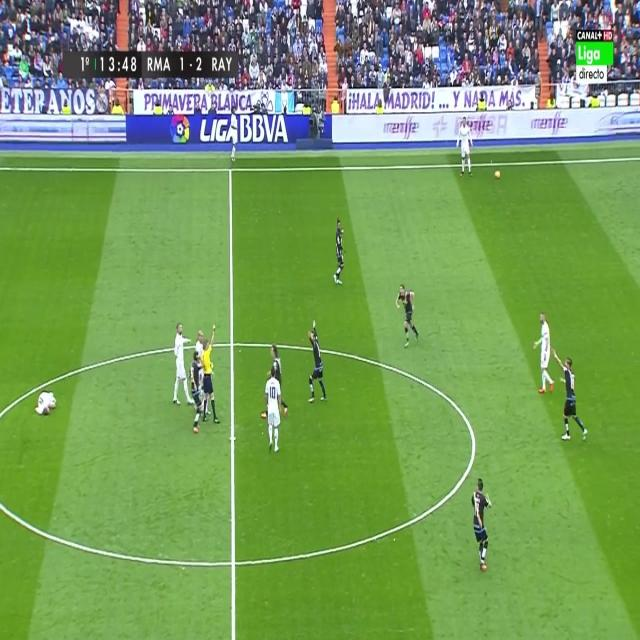Ball: (492, 167, 502, 180)
Player: (555, 350, 589, 445), (469, 476, 494, 576), (531, 308, 554, 395), (392, 279, 420, 350), (306, 320, 329, 404), (171, 322, 192, 412), (266, 363, 282, 456), (188, 348, 204, 434), (454, 117, 475, 177), (331, 216, 346, 287), (30, 383, 58, 419), (268, 342, 284, 383)
Referee: (201, 322, 222, 424)
